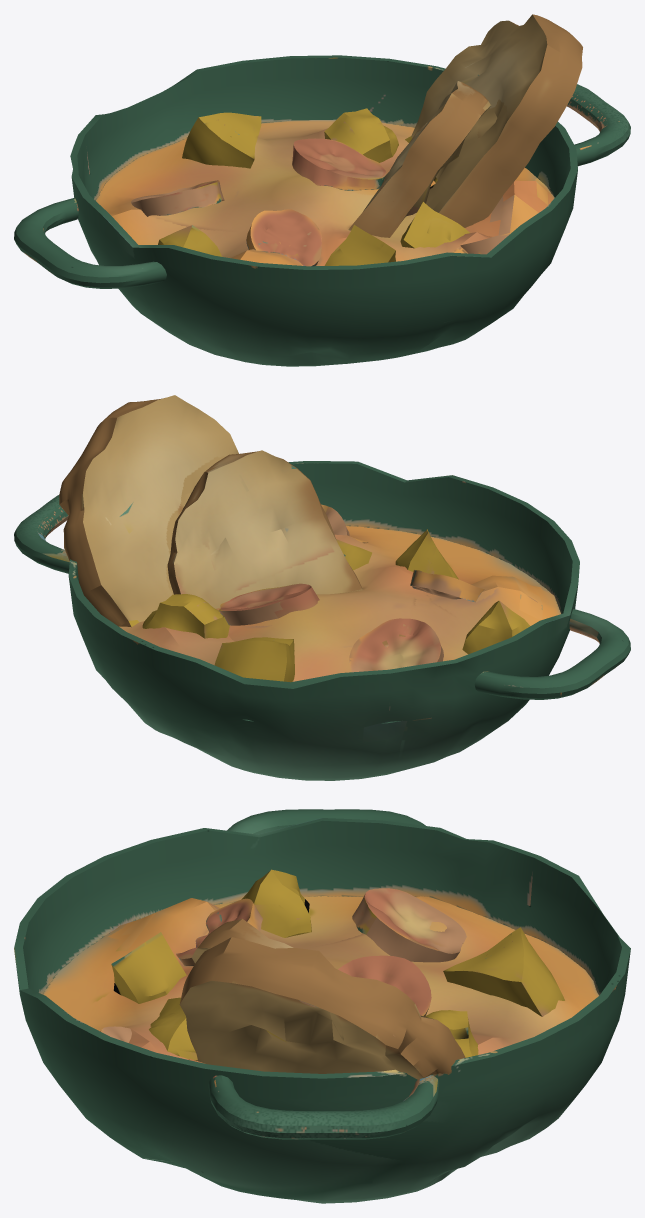
Rendered from breadsoup.fbx.
The picture shows the model from 3 angles, top to bottom: view 1: azimuth 30°, elevation 25°; view 2: azimuth 150°, elevation 25°; view 3: azimuth 270°, elevation 25°; orthographic projection. The views are drawn at different scales.
Visible parts, largest first — view 1: 球体.004; view 2: 球体.004; view 3: 球体.004.
Boxes of the visible parts, x1,y1,x2,y2 form: 球体.004: (14,14,630,366); 球体.004: (14,395,630,780); 球体.004: (14,809,630,1203).
Size of the model in its own units: 334 by 153 by 259.
